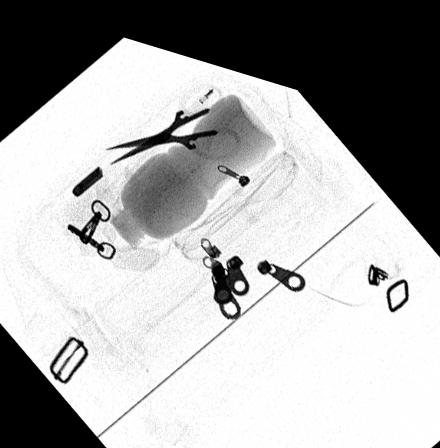Scissors: (99, 65, 248, 163)
